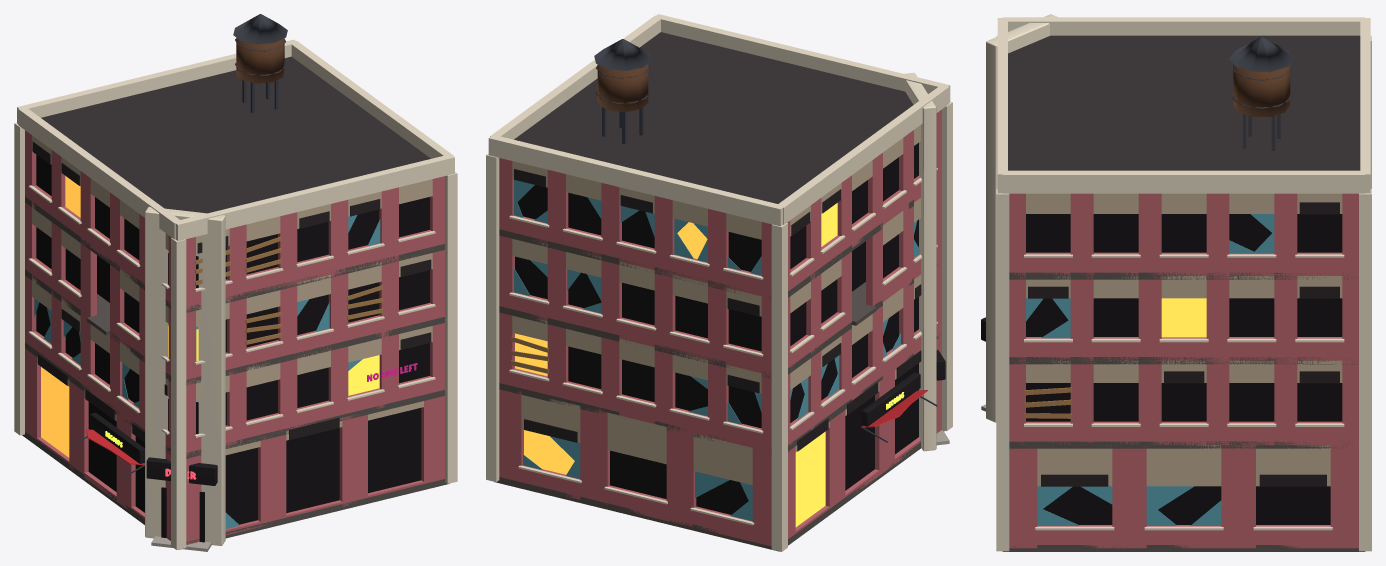
File: city_building_corner.glb
The picture shows the model from 3 angles, left to right: view 1: azimuth 30°, elevation 25°; view 2: azimuth 150°, elevation 25°; view 3: azimuth 270°, elevation 25°; orthographic projection. The views are drawn at different scales.
Parts seen in each view (by area): view 1: Corner; view 2: Corner; view 3: Corner.
Boxes of the visible parts, x1,y1,x2,y2 form: Corner: (14, 14, 457, 551); Corner: (486, 14, 952, 551); Corner: (981, 14, 1371, 551).
Bounding box in the file's own units: 15.56 × 20.05 × 15.08.
